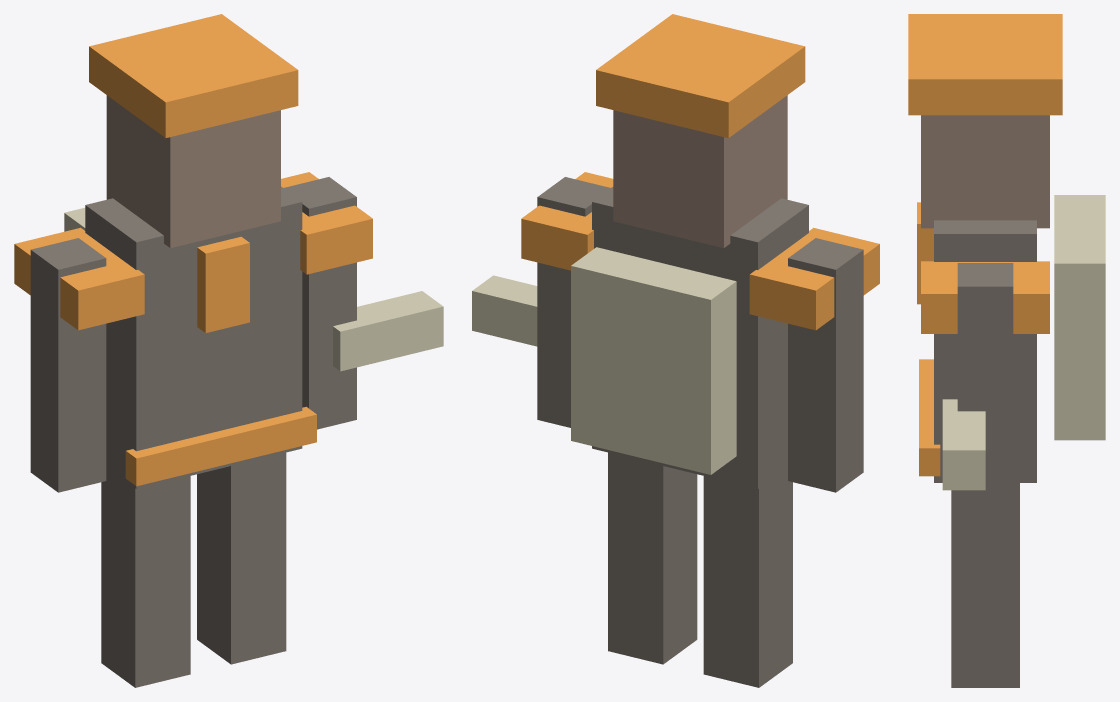
The model's file is 10_rook_nullborne_broker_near_command.glb.
3 renders of one model, left to right at view 1: azimuth 30°, elevation 25°; view 2: azimuth 150°, elevation 25°; view 3: azimuth 270°, elevation 25°, orthographic.
Visible parts, largest first — view 1: Rook Nullborne, Broker near Command; view 2: Rook Nullborne, Broker near Command; view 3: Rook Nullborne, Broker near Command.
Part boxes in pixels (x1=…): Rook Nullborne, Broker near Command: x1=14, y1=14, x2=443, y2=687; Rook Nullborne, Broker near Command: x1=472, y1=14, x2=879, y2=687; Rook Nullborne, Broker near Command: x1=908, y1=14, x2=1105, y2=687.
Bounding box in the file's own units: 1.12 × 1.69 × 0.5021.
